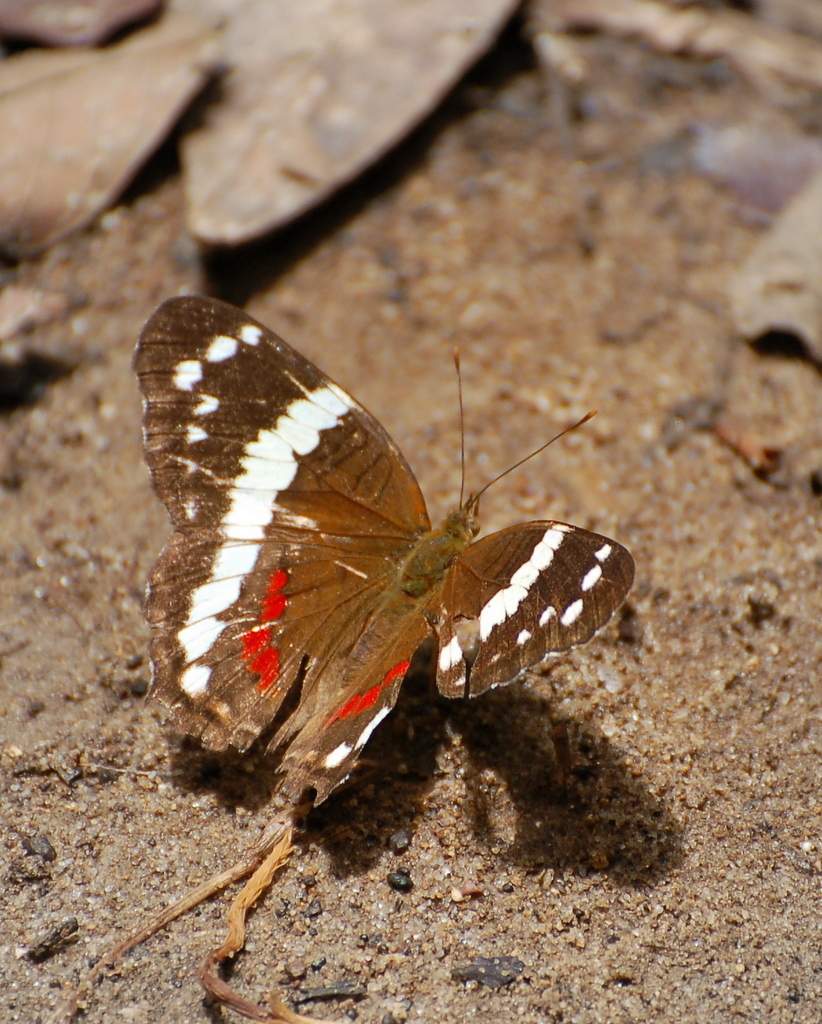Butterfly: (99, 273, 653, 983)
